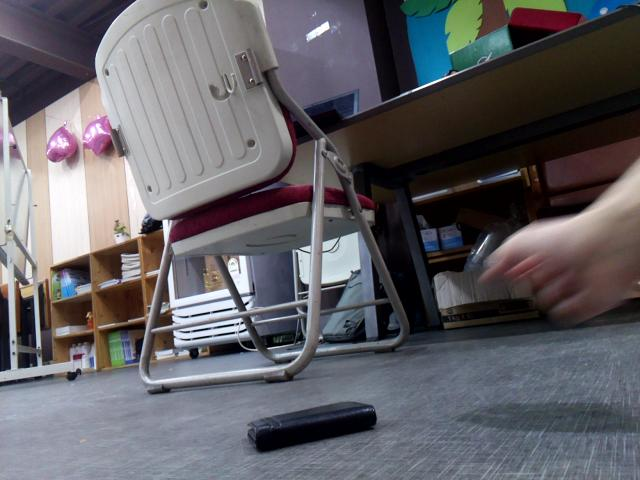wallet: (235, 390, 381, 455)
